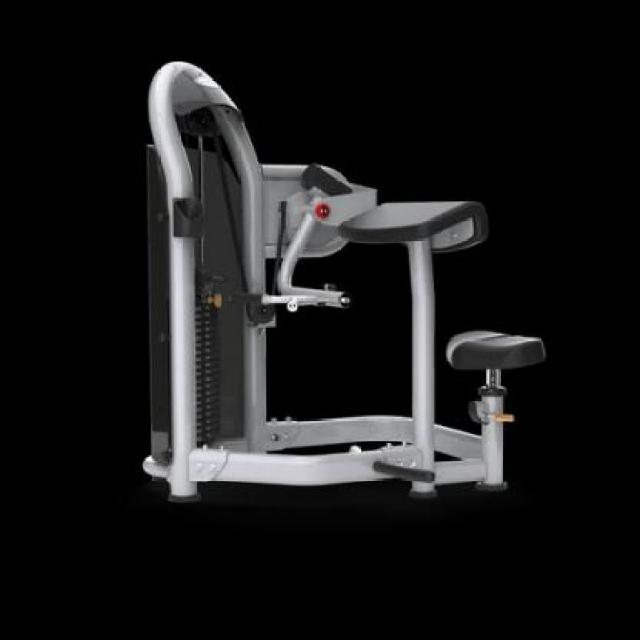arm curl machine: (142, 59, 546, 503)
